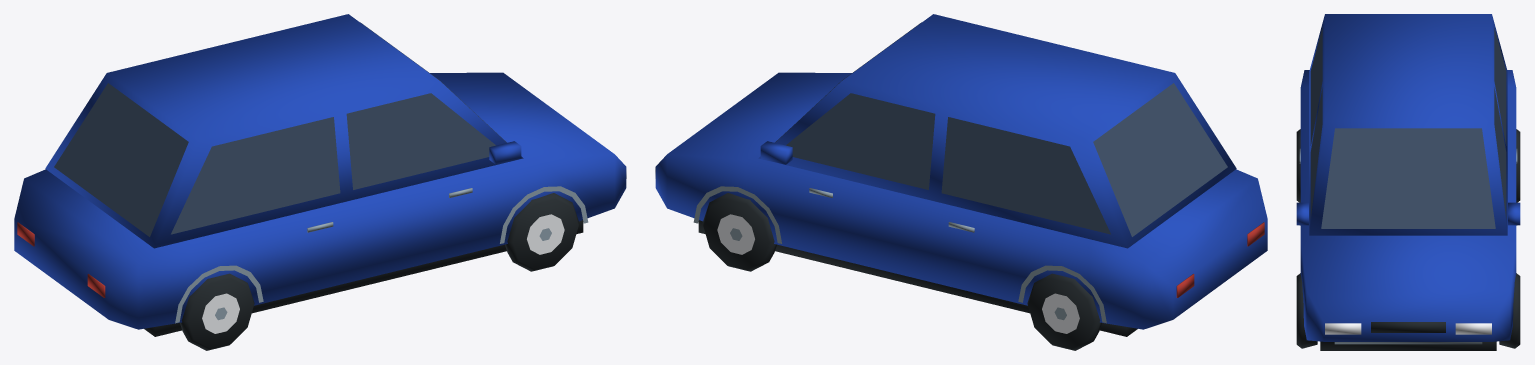
Rendered from SM_MPR_Env_Car_1.fbx.
3 renders of one model, left to right at view 1: azimuth 30°, elevation 25°; view 2: azimuth 150°, elevation 25°; view 3: azimuth 270°, elevation 25°, orthographic. The views are drawn at different scales.
Visible parts, largest first — view 1: SM_MPR_Env_Car_1; view 2: SM_MPR_Env_Car_1; view 3: SM_MPR_Env_Car_1.
Boxes of the visible parts, bbox=[...] form: SM_MPR_Env_Car_1: bbox=[14, 14, 626, 350]; SM_MPR_Env_Car_1: bbox=[655, 14, 1267, 350]; SM_MPR_Env_Car_1: bbox=[1296, 14, 1520, 350].
Bounding box in the file's own units: 452 × 185 × 166.
